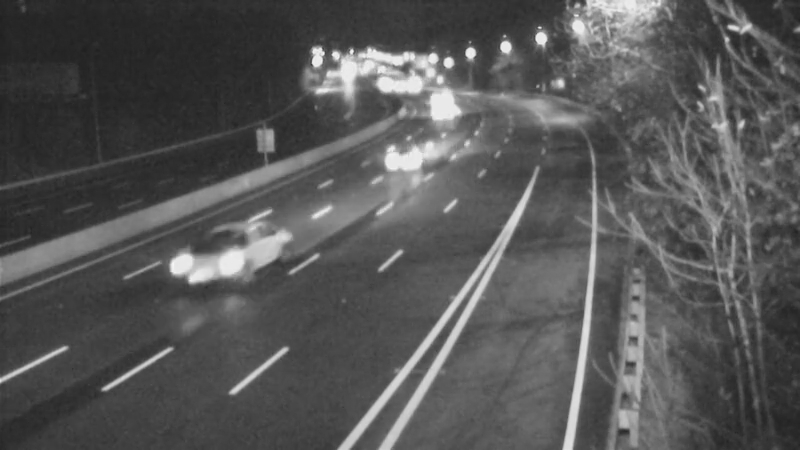vehicle: (369, 119, 449, 199), (182, 224, 262, 304), (391, 61, 441, 111), (373, 61, 423, 111), (418, 68, 468, 118), (420, 88, 470, 138)
